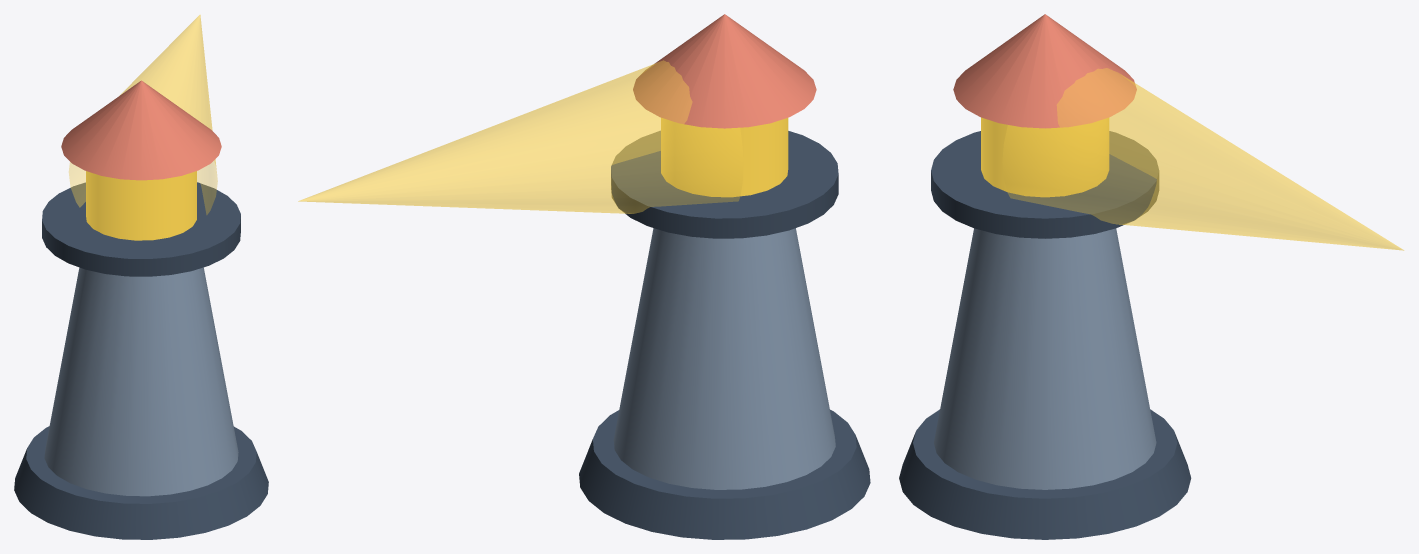
The model's file is watchtower-classic.glb.
The picture shows the model from 3 angles, left to right: view 1: azimuth 30°, elevation 25°; view 2: azimuth 150°, elevation 25°; view 3: azimuth 270°, elevation 25°; orthographic projection. The views are drawn at different scales.
Visible parts, largest first — view 1: tower-classic, searchlight; view 2: tower-classic, searchlight; view 3: tower-classic, searchlight.
Boxes of the visible parts, left/top/right/bottom form: tower-classic: left=14, top=80, right=268, bottom=539; searchlight: left=69, top=15, right=217, bottom=214; tower-classic: left=579, top=14, right=870, bottom=539; searchlight: left=298, top=60, right=743, bottom=213; tower-classic: left=899, top=14, right=1191, bottom=539; searchlight: left=1002, top=68, right=1403, bottom=250.
Bounding box in the file's own units: 3.1 × 3.68 × 3.63.
